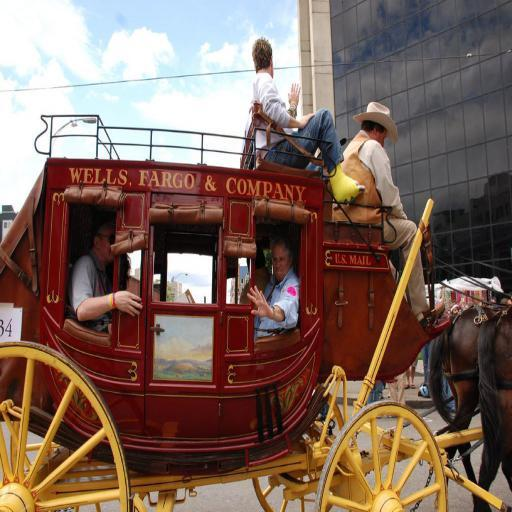Horse: (425, 301, 510, 508), (474, 305, 512, 512)
